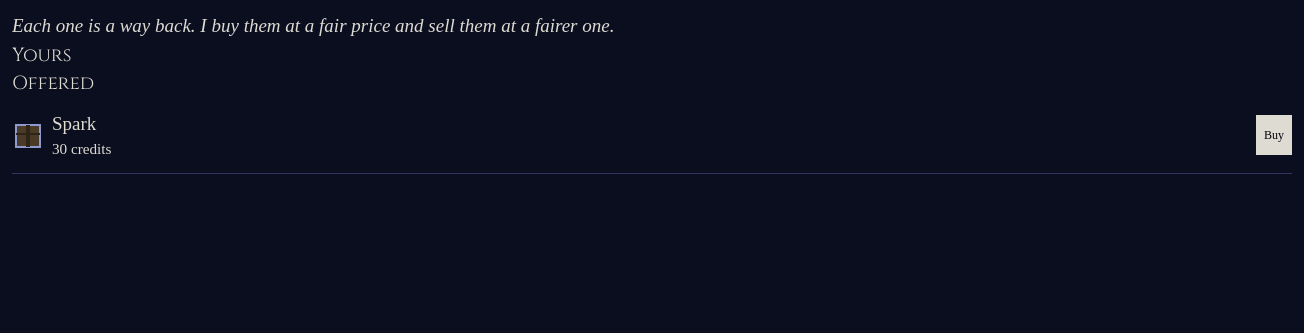
Scenario: buy updates credits and refetches the already-set Præm
Click the button "Buy": (1274, 135) [1256,115,1292,155]
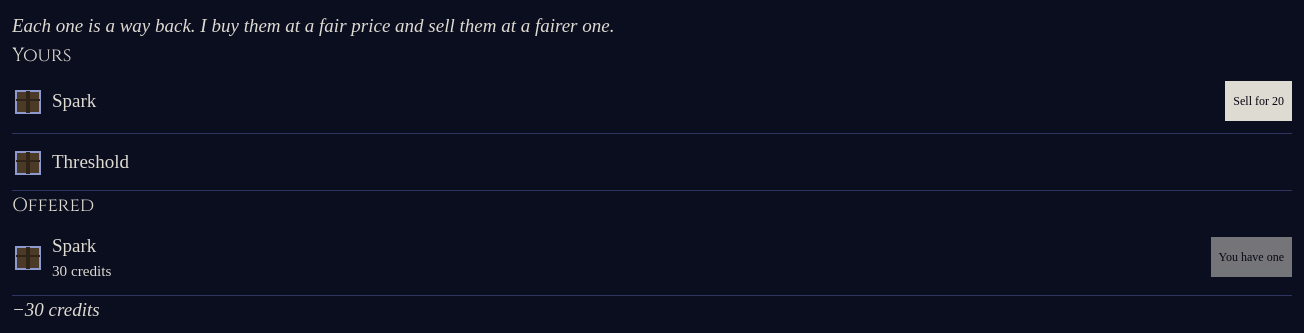
Now the button "You have one" is disabled, box [1210,237,1292,277]
